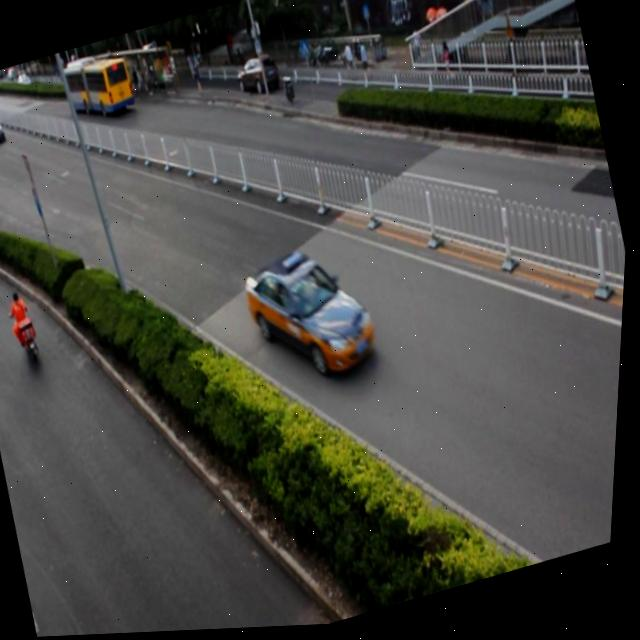car: (238, 234, 389, 397), (106, 46, 161, 99), (233, 54, 281, 104)
van: (59, 46, 138, 128)
